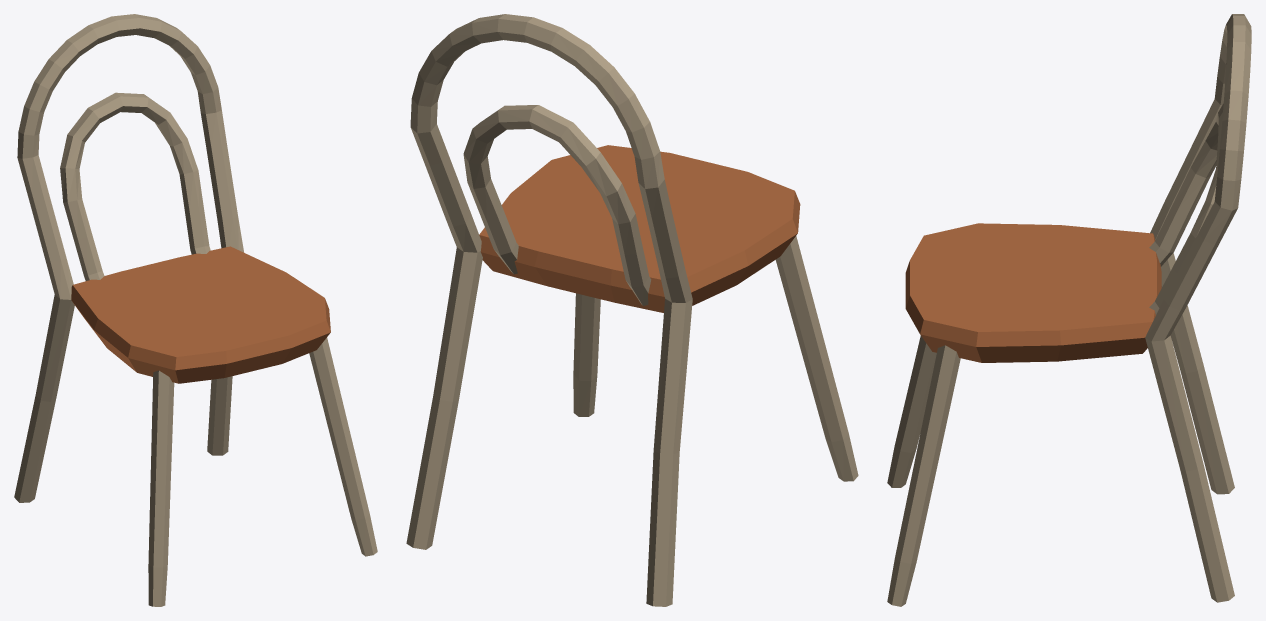
The model's file is bistro-chair-7c354d.glb.
3 renders of one model, left to right at view 1: azimuth 30°, elevation 25°; view 2: azimuth 150°, elevation 25°; view 3: azimuth 270°, elevation 25°, orthographic. The views are drawn at different scales.
Parts seen in each view (by area): view 1: chair; view 2: chair; view 3: chair.
Part boxes in pixels (bbox=[...]): chair: bbox=[14, 14, 377, 606]; chair: bbox=[406, 14, 858, 606]; chair: bbox=[887, 14, 1251, 606].
Size of the model in its own units: 0.4573 by 0.8761 by 0.5579.
